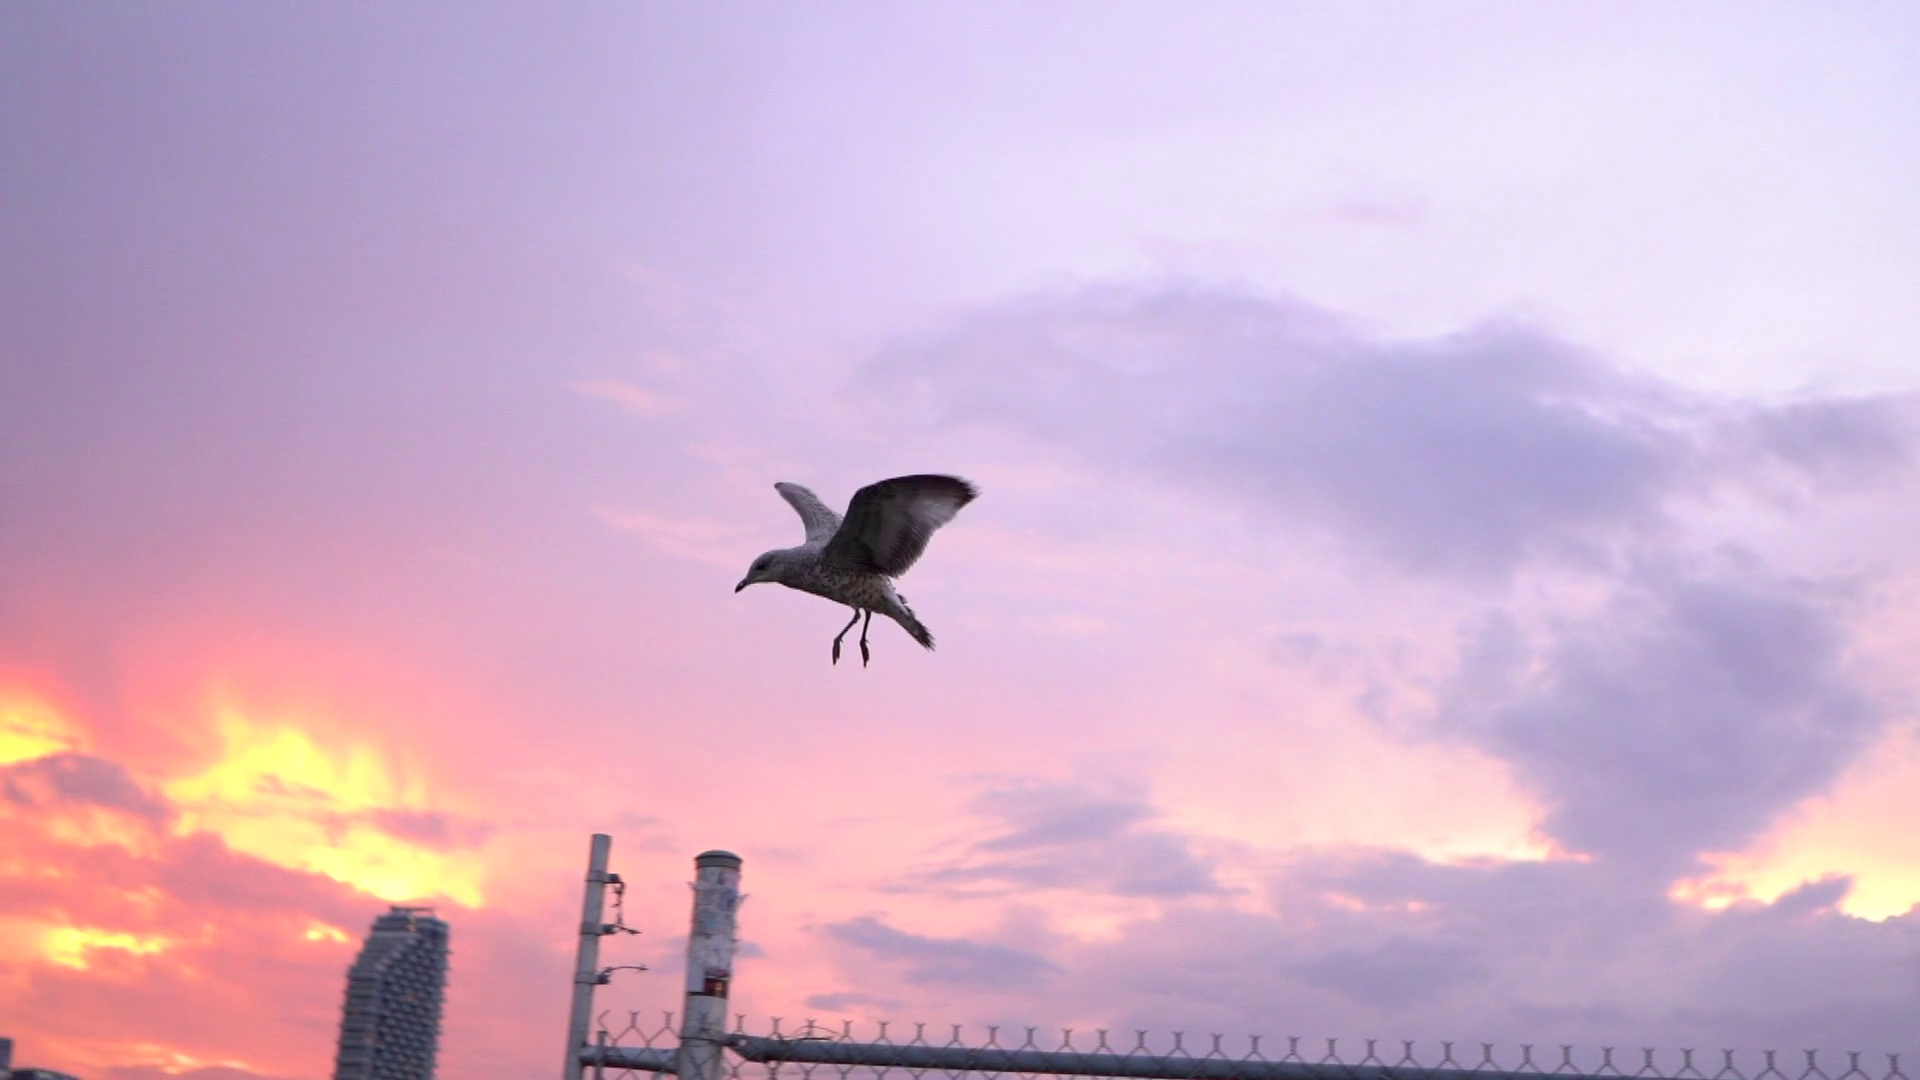bird: (733, 473, 980, 665)
